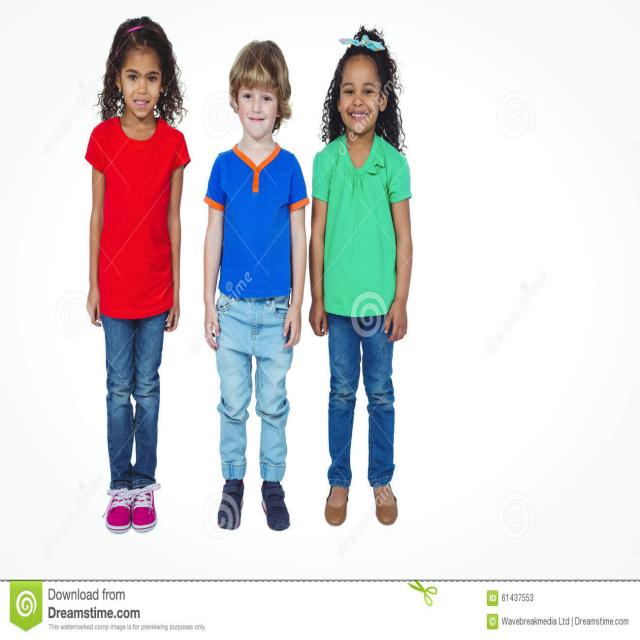child: (307, 25, 417, 548), (82, 11, 191, 534), (199, 33, 308, 556)
